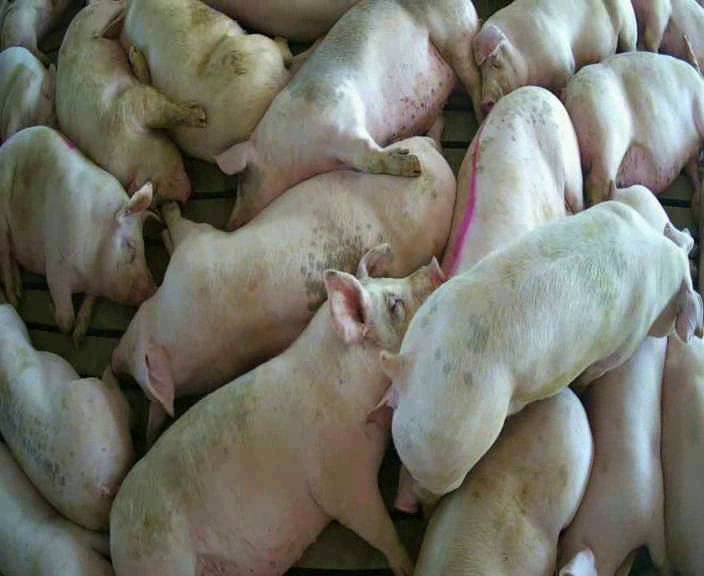pig: (111, 244, 442, 573), (384, 202, 701, 517), (216, 3, 480, 227), (0, 126, 153, 340), (415, 389, 591, 574), (56, 2, 205, 200), (121, 2, 291, 160), (564, 35, 703, 204), (475, 2, 636, 113), (662, 336, 703, 574), (0, 1, 85, 64), (0, 47, 55, 142), (633, 1, 703, 74)
